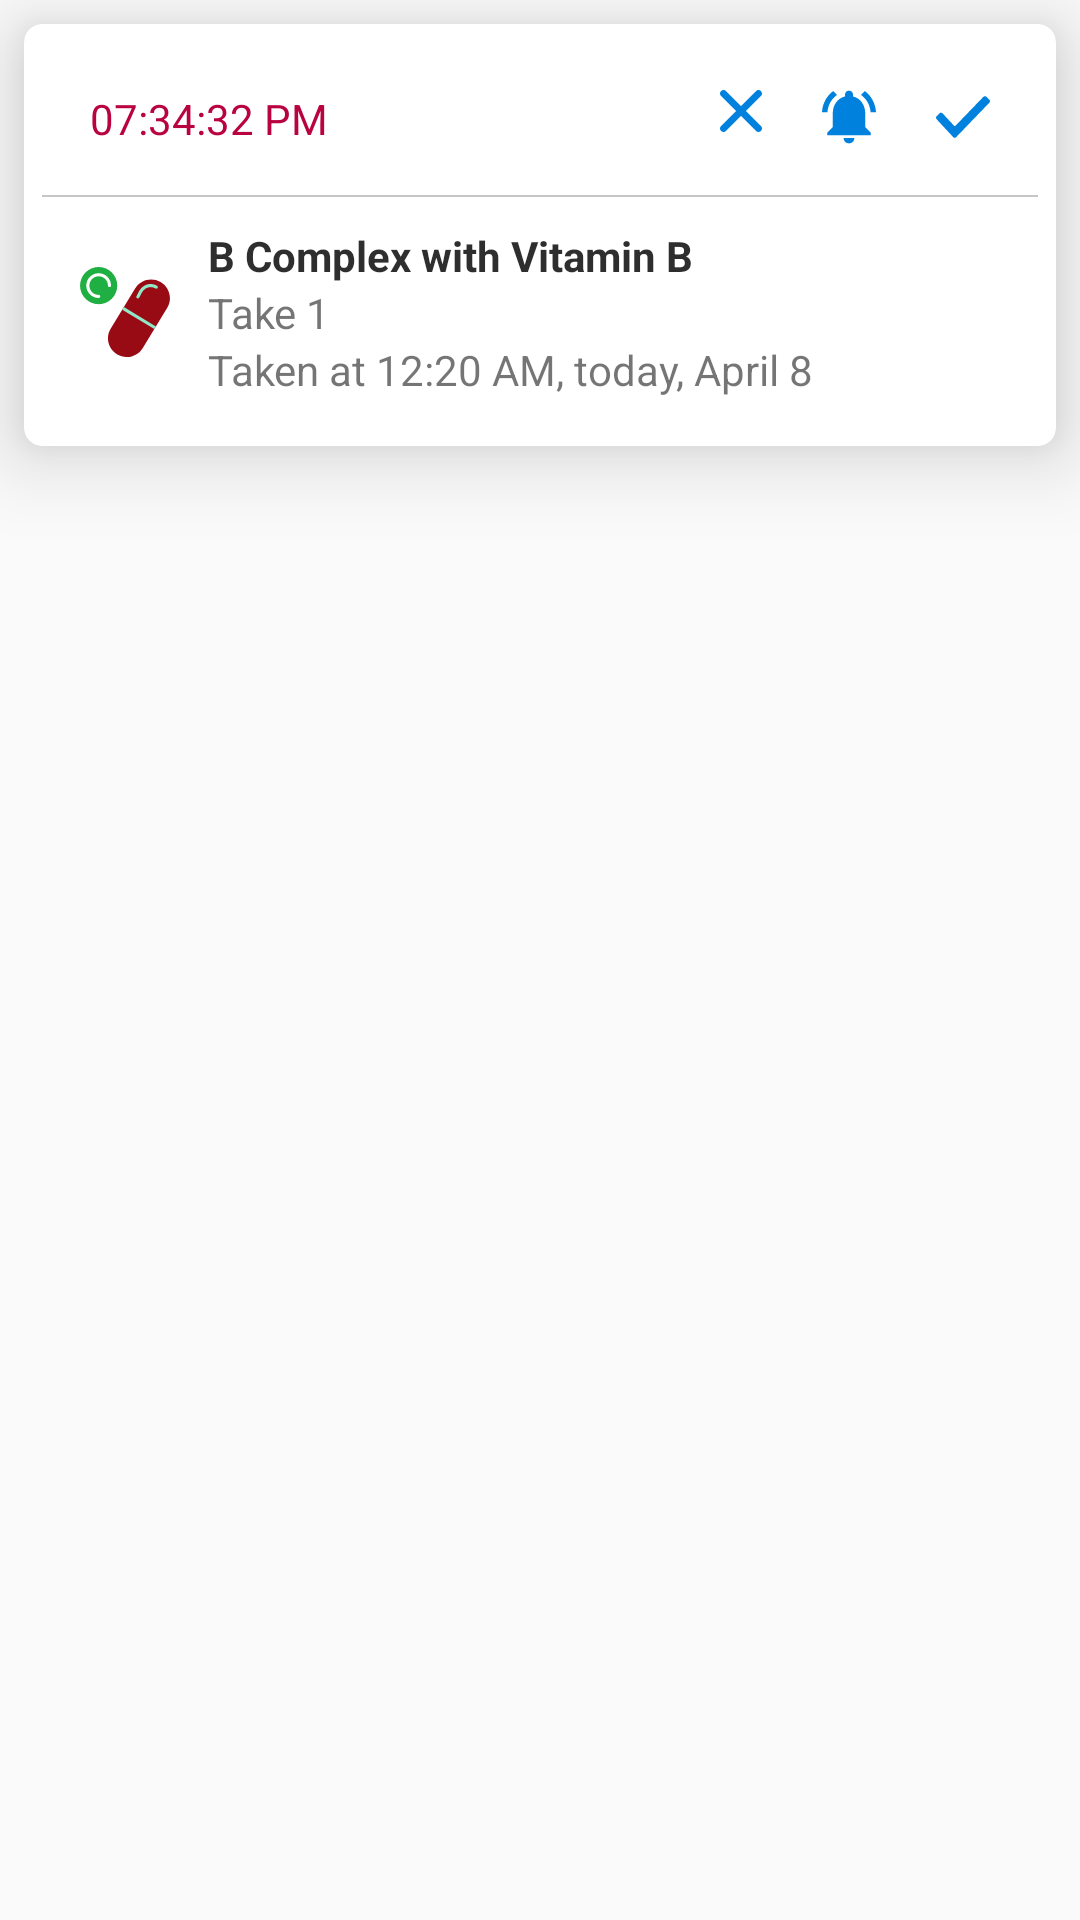

Where icons sit on this 1080x1920 app screen, as (x1, y1, x2, y2):
cancel: (720, 90, 762, 132)
checked: (936, 96, 990, 138)
medicine: (80, 267, 170, 357)
notifications: (822, 90, 876, 144)
